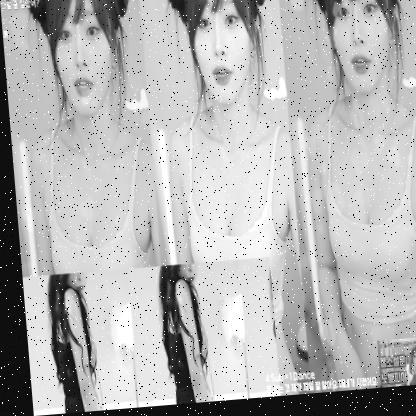donation: (18, 262, 274, 416)
streamer: (152, 0, 305, 406), (292, 0, 416, 397), (14, 0, 156, 278)
